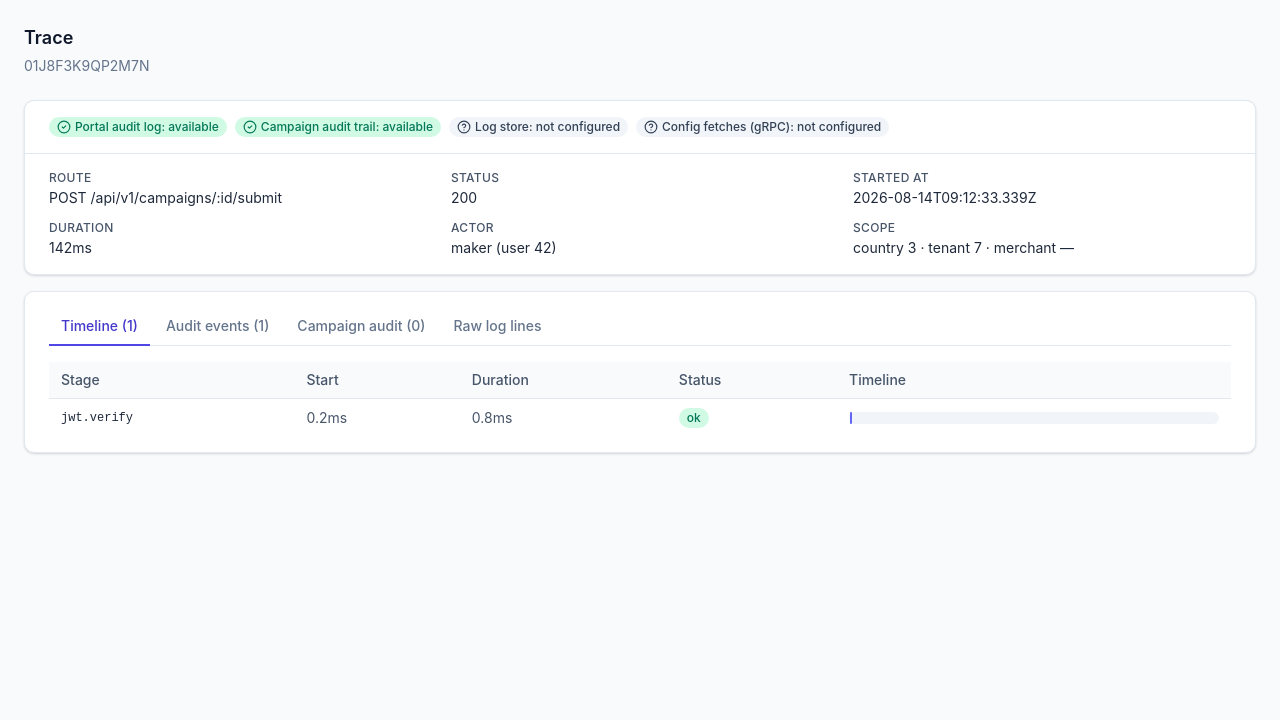
Scenario: TC-19 — no domain audit rows › renders the empty state in the domain-audit tab rather than omitting the section
Expected: the heading "Trace" is shown, [24, 27, 73, 48]
Click the tab "Campaign audit (0)".
click(362, 327)  # box [285, 308, 438, 346]
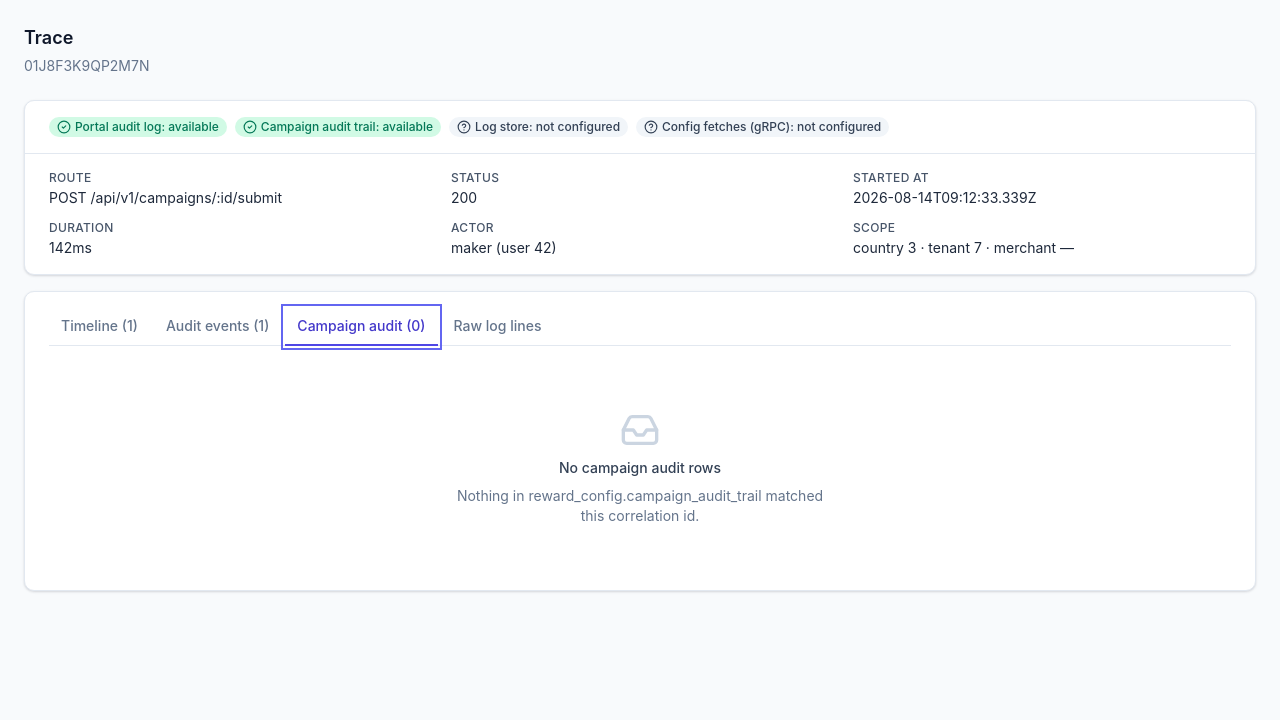
Now the text "No campaign audit rows" is shown, box [559, 458, 721, 478]
